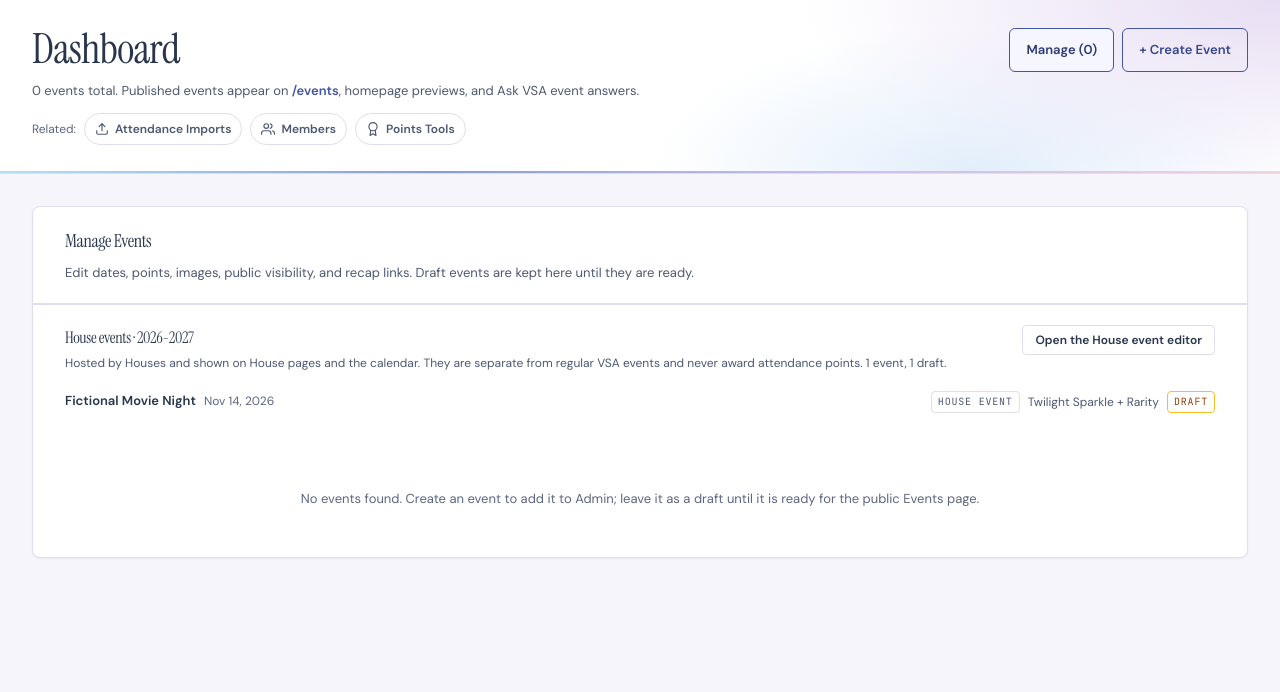
Test: External Event preselects the External type and General restores the default
What coordinates should you click on to do the following:
click the button "+ Create Event"
I would click on:
 (1185, 50)
Its box is [1122,28,1248,72].
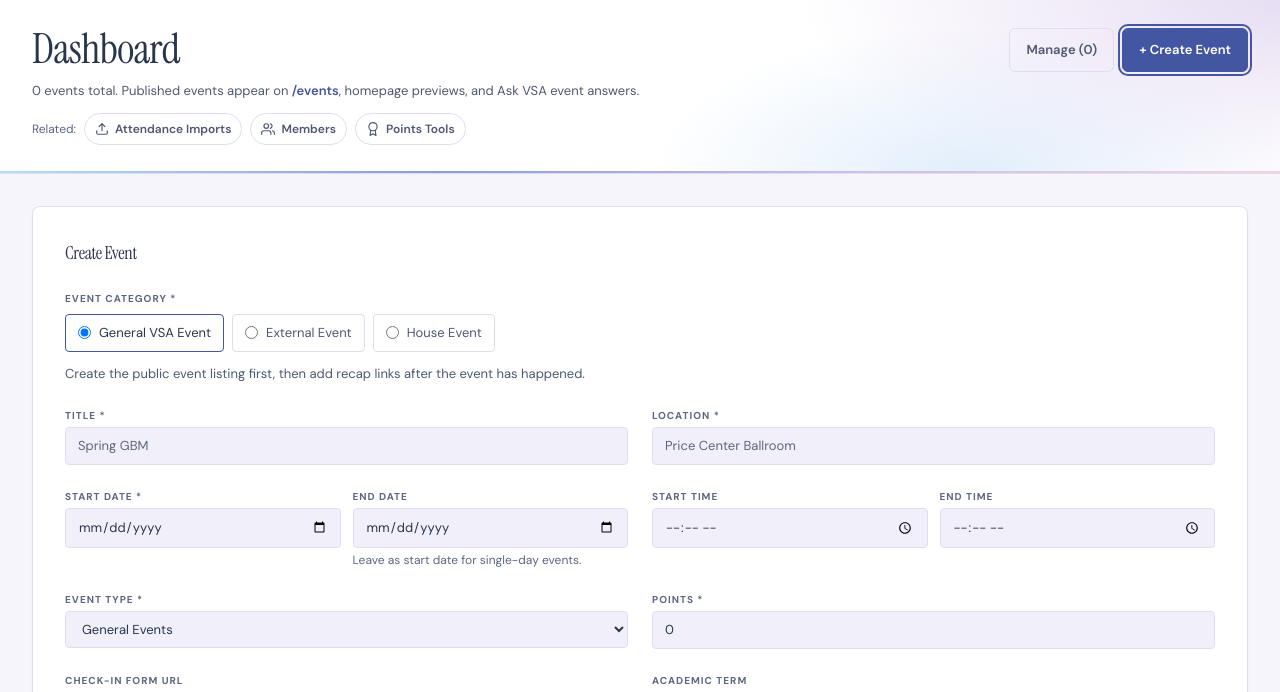
What coordinates should you click on to do the following:
click the radio button labelled "External Event"
I would click on:
 (252, 333)
Its box is [245,326,258,339].
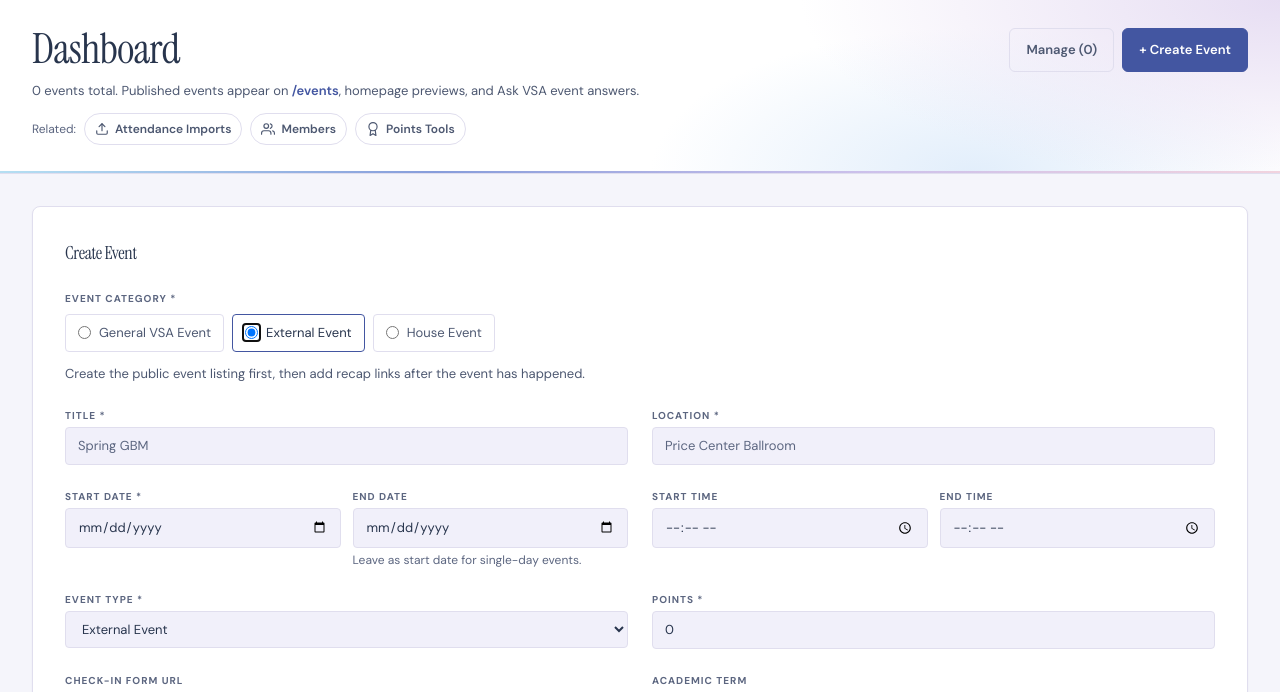
Now the dropdown labelled "Event Type *" shows "External Event", box [65,611,628,648]
What coordinates should you click on to do the following:
click the radio button labelled "General VSA Event"
I would click on:
 (84, 333)
Its box is [78,326,91,339].
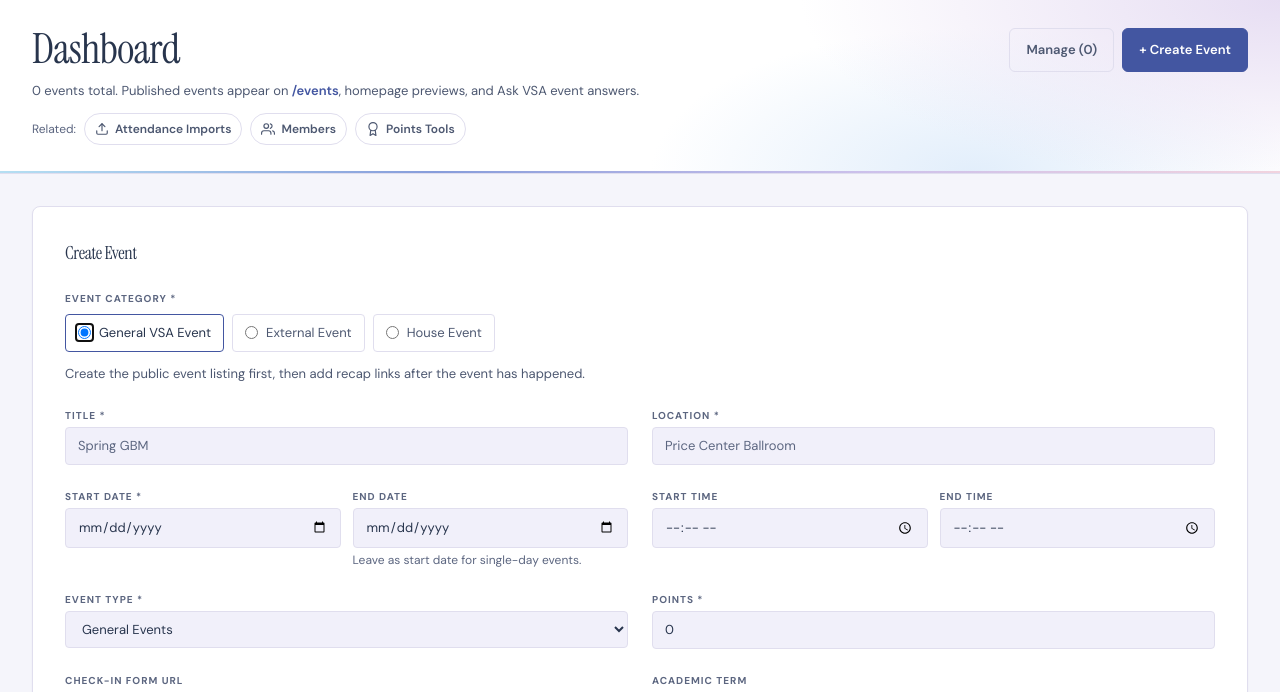
Now the dropdown labelled "Event Type *" shows "General Events", box [65,611,628,648]
